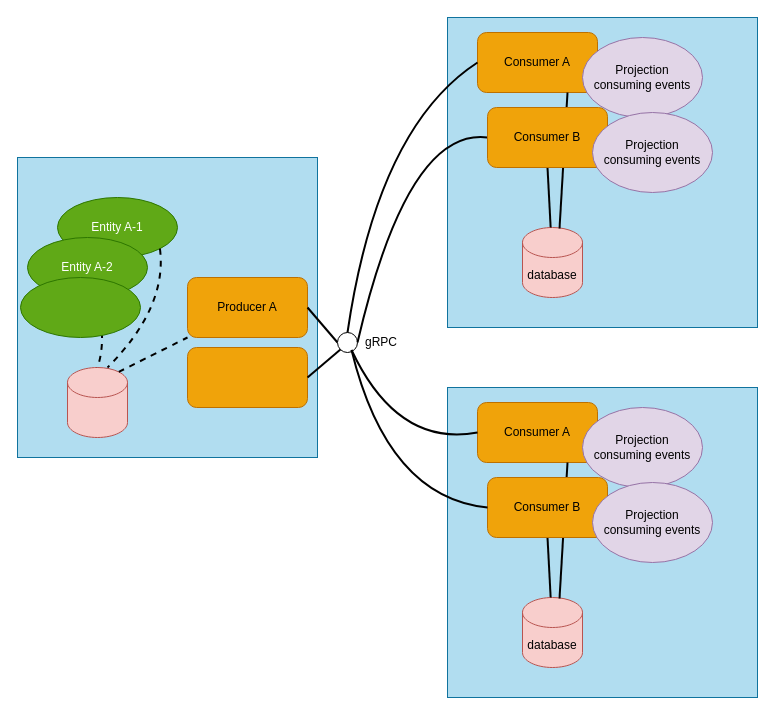
The diagram is 775 pixels wide and 715 high, and some of its shapes have lost their labels. The shapes that lost their labels are listed below. From the top down, each one's centre as x and y in pixels, then its label:
At point 80,307: "Entity B-1".
At point 247,377: "Producer B".
At point 97,402: "event journal".
